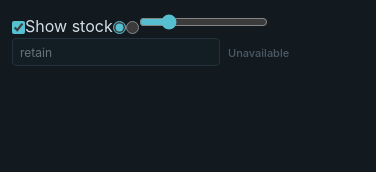
Scenario: preserves uncontrolled checkbox, radio, range and disabled fieldset form semantics
This screenshot has width=376, height=172.
Expected: the label "Show stock" is shown, [12,16,113,36]
Click the checkbox named "stock" at [18, 28], box [12,21,25,34]
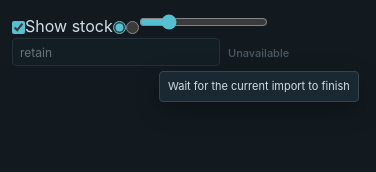
Expected: the tooltip "Wait for the current import to finish" is shown, [159,71,359,102]
